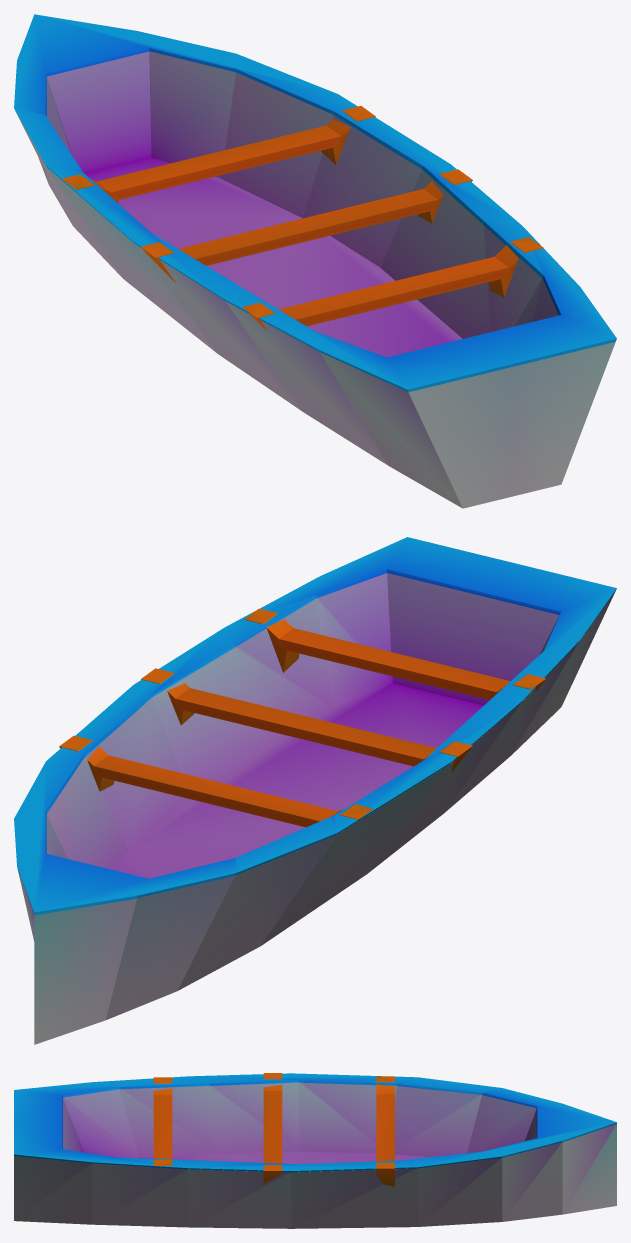
3 views of the same model, one above another, from view 1: azimuth 30°, elevation 25°; view 2: azimuth 150°, elevation 25°; view 3: azimuth 270°, elevation 25° (orthographic). The views are drawn at different scales.
Visible parts, largest first — view 1: outer, rim_outer, bar.001, bar.002, bar; view 2: outer, rim_outer, bar.001, bar, bar.002; view 3: outer, rim_outer, bar.002, bar.001, bar.
Part boxes in pixels (left/top/right/bottom): outer: left=15, top=51, right=615, bottom=508; rim_outer: left=14, top=14, right=616, bottom=392; bar.001: left=141, top=169, right=472, bottom=283; bar.002: left=62, top=106, right=375, bottom=203; bar: left=242, top=237, right=543, bottom=330; outer: left=18, top=573, right=615, bottom=1044; rim_outer: left=14, top=537, right=616, bottom=915; bar.001: left=141, top=668, right=472, bottom=771; bar: left=244, top=608, right=545, bottom=700; bar.002: left=59, top=735, right=372, bottom=827; outer: left=14, top=1082, right=616, bottom=1228; rim_outer: left=14, top=1073, right=616, bottom=1172; bar.002: left=376, top=1076, right=394, bottom=1186; bar.001: left=263, top=1073, right=282, bottom=1183; bar: left=153, top=1077, right=172, bottom=1165.
Bounding box in the file's own units: 1.54 × 0.6149 × 4.
